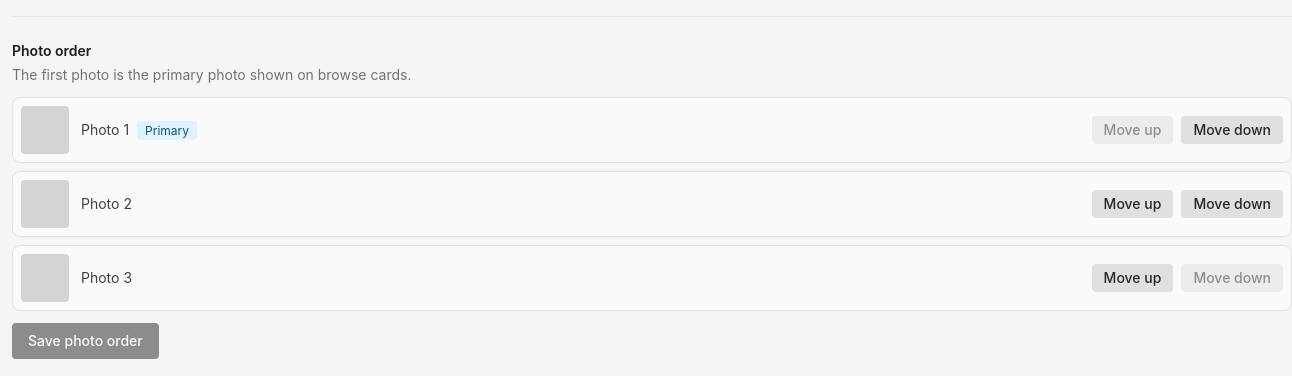
Test: GalleryOrderEditor (backlog #162) › moving a photo down swaps the rows and the Primary flag follows the new first photo
The width and height of the screenshot is (1292, 376).
Click the button with aria-label "Move photo 1 down" at (1232, 130), box [1181,116,1283,144]
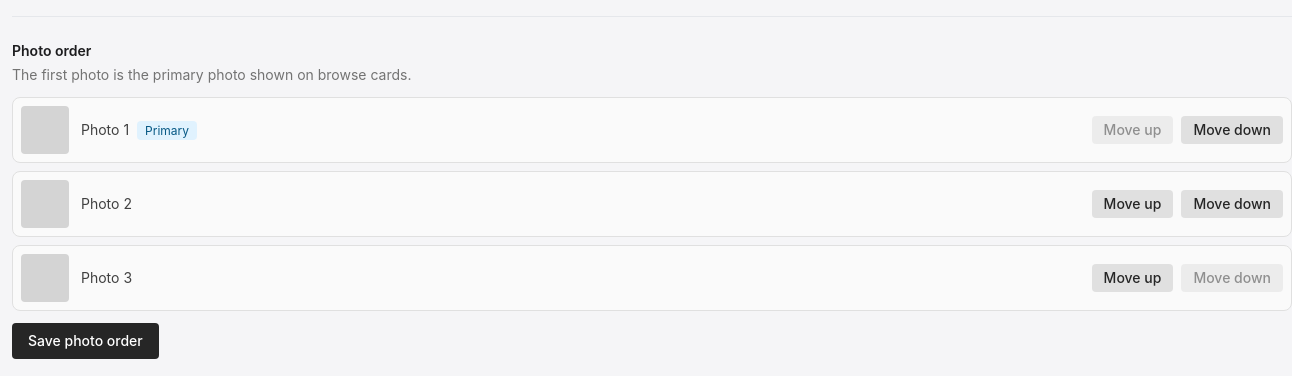
Expected: the list item "Photo 1Primary Move up Move down" is shown, [12,97,1291,163]
Expected: the button "Save photo order" is enabled, [12,323,159,359]
